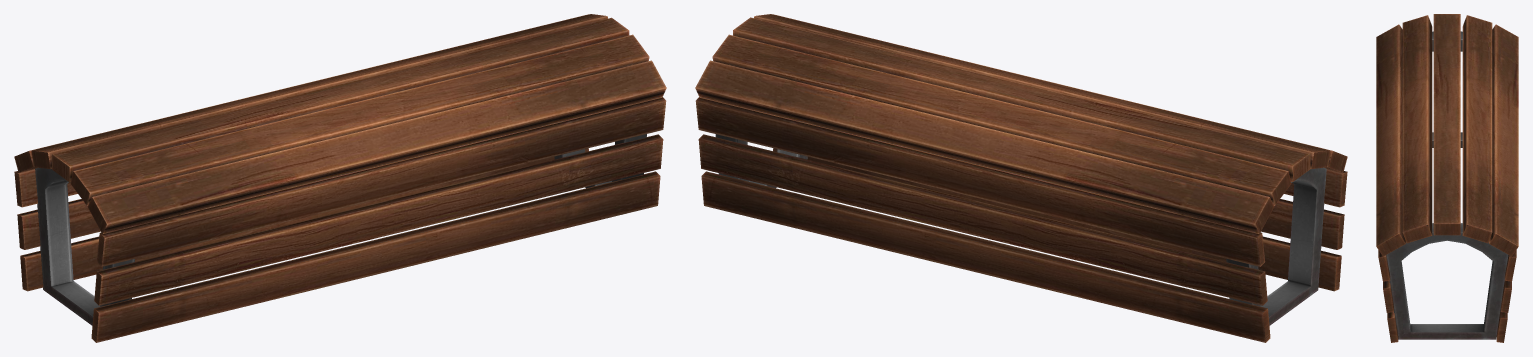
The model's file is Park_Bench_3.glb.
3 renders of one model, left to right at view 1: azimuth 30°, elevation 25°; view 2: azimuth 150°, elevation 25°; view 3: azimuth 270°, elevation 25°, orthographic. The views are drawn at different scales.
Parts seen in each view (by area): view 1: Park_Bench_3__LOD2; view 2: Park_Bench_3__LOD2; view 3: Park_Bench_3__LOD2.
Part boxes in pixels (x1,y1,x2,y2): Park_Bench_3__LOD2: (14, 14, 666, 342); Park_Bench_3__LOD2: (695, 14, 1347, 342); Park_Bench_3__LOD2: (1376, 14, 1518, 342).
Size of the model in its own units: 2.98 by 0.7944 by 0.8531.
Materials: 1 (1 with a texture image).
